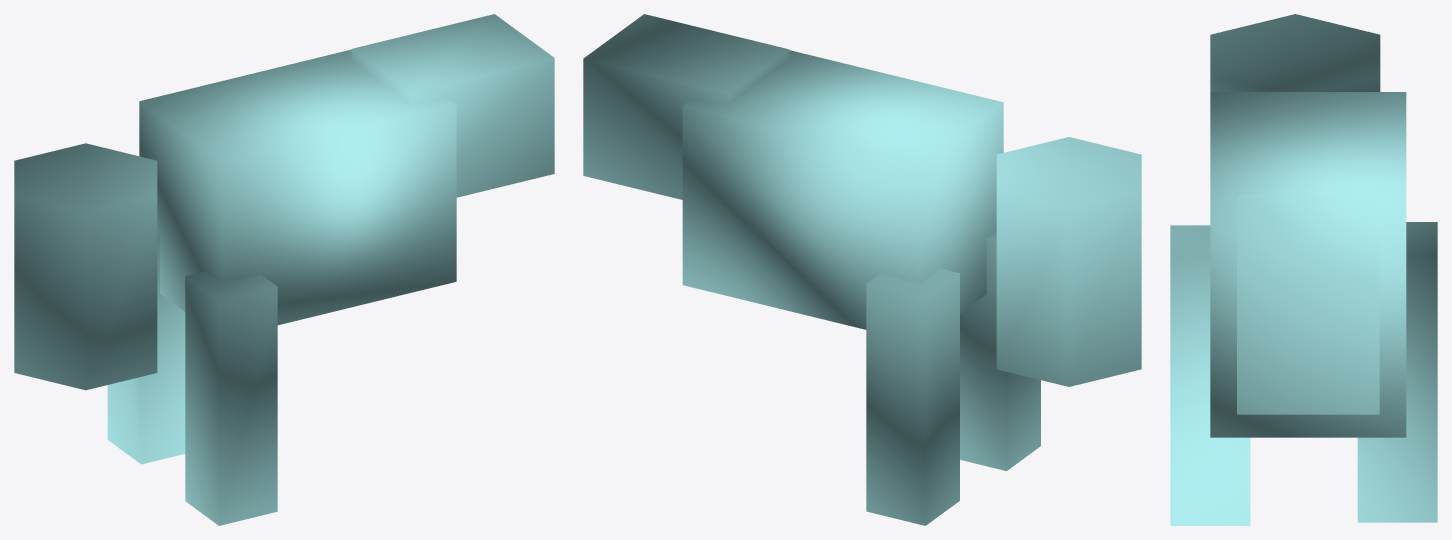
The model's file is ps2_jrpg_shadow_fiend_demon_enemy.obj.
3 renders of one model, left to right at view 1: azimuth 30°, elevation 25°; view 2: azimuth 150°, elevation 25°; view 3: azimuth 270°, elevation 25°, orthographic. The views are drawn at different scales.
Size of the model in its own units: 1.58 by 1.05 by 0.6.
